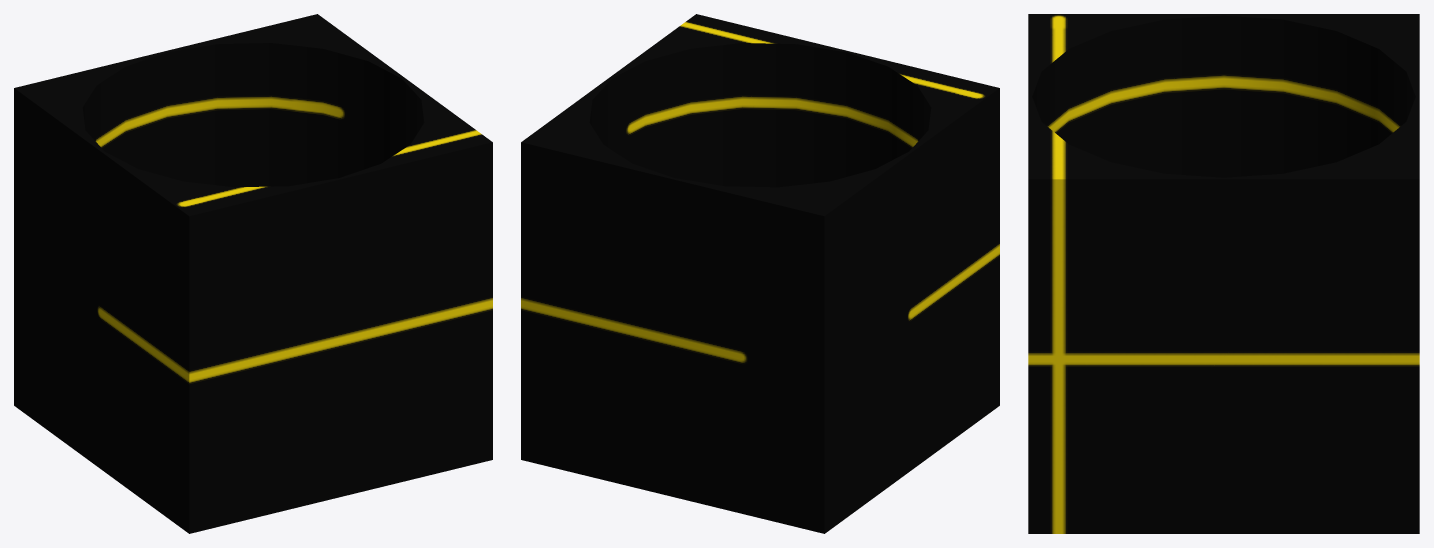
Rendered from hole_mesh.fbx.
The picture shows the model from 3 angles, left to right: view 1: azimuth 30°, elevation 25°; view 2: azimuth 150°, elevation 25°; view 3: azimuth 270°, elevation 25°; orthographic projection. The views are drawn at different scales.
Parts seen in each view (by area): view 1: hole; view 2: hole; view 3: hole.
Boxes of the visible parts, <box> form: hole: <box>14,14,492,533</box>; hole: <box>521,14,999,533</box>; hole: <box>1028,14,1419,533</box>.
Size of the model in its own units: 1 by 1 by 1.
Materials: 1 (1 with a texture image).
